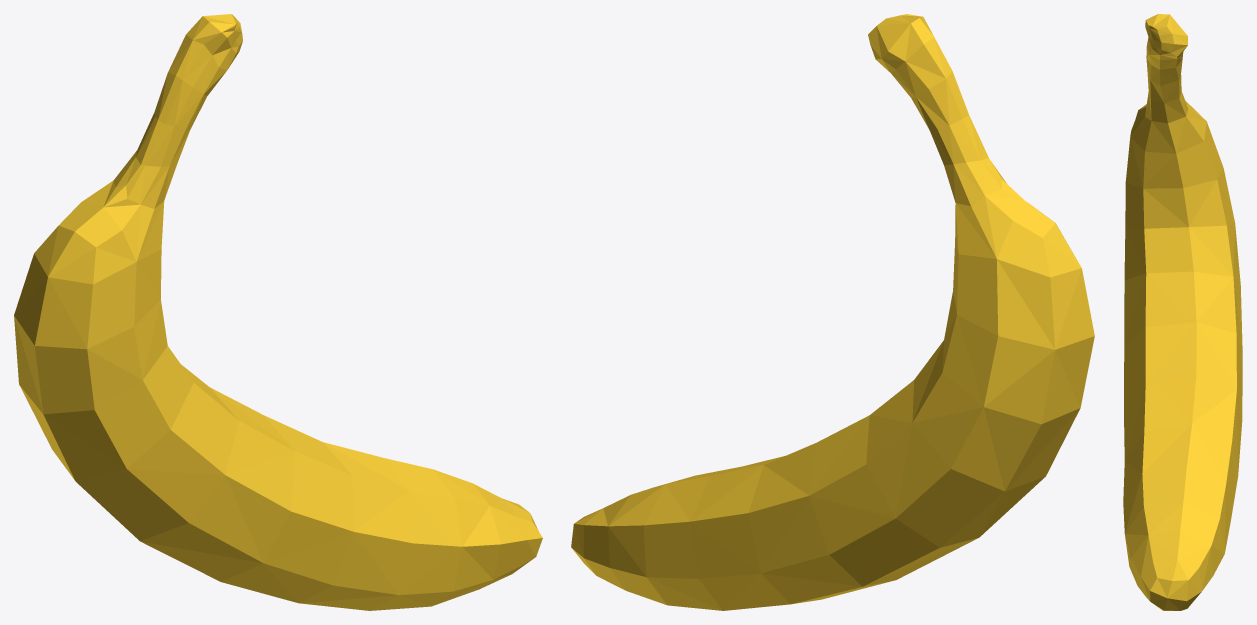
The model's file is Banana.obj.
The picture shows the model from 3 angles, left to right: view 1: azimuth 30°, elevation 25°; view 2: azimuth 150°, elevation 25°; view 3: azimuth 270°, elevation 25°; orthographic projection. The views are drawn at different scales.
Parts seen in each view (by area): view 1: Banana; view 2: Banana; view 3: Banana.
Boxes of the visible parts, bbox=[...] form: Banana: bbox=[14, 14, 542, 610]; Banana: bbox=[571, 14, 1094, 610]; Banana: bbox=[1123, 14, 1242, 610].
Size of the model in its own units: 1.18 by 1.4 by 0.3095.
